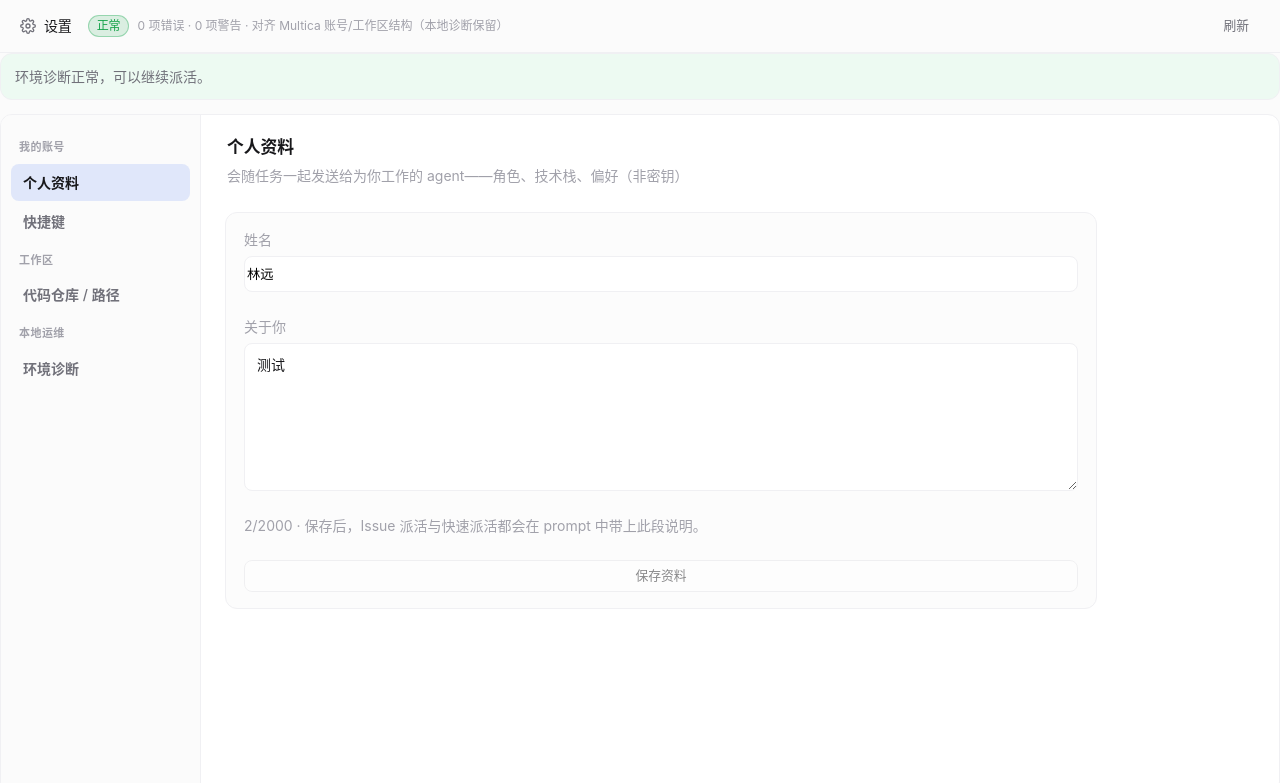
Test: SettingsPage › 将 worker 顶层 tick 失败明确呈现为降级，而不伪装成普通 age
Click the button with test id "settings-nav-health". click: (100, 368)
box: [11,350,190,386]
(page scrolled)
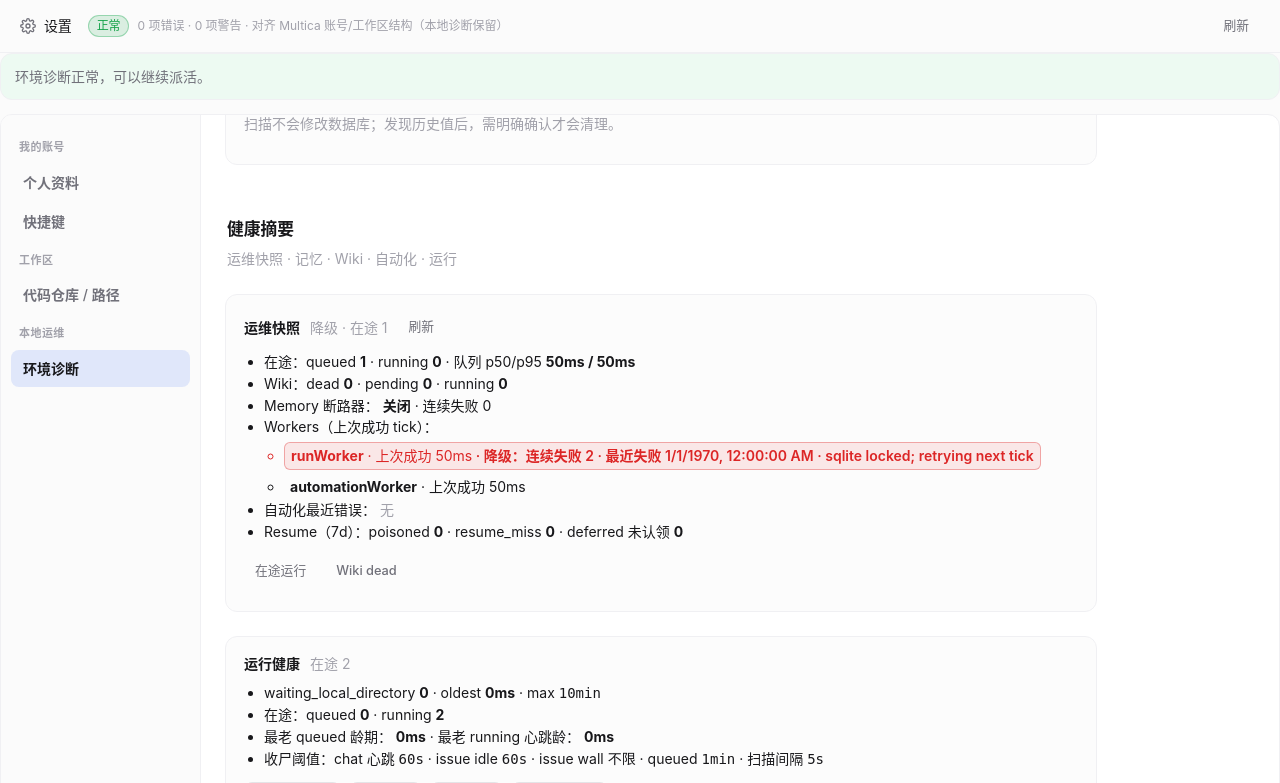
Result: the list item with test id "settings-ops-worker-runWorker" shows "上次成功 50ms" at [284,442,1041,470]
Result: the list item with test id "settings-ops-worker-runWorker" shows "降级：连续失败 2" at [284,442,1041,470]
Result: the list item with test id "settings-ops-worker-runWorker" shows "sqlite locked; retrying next tick" at [814,447,1034,464]
